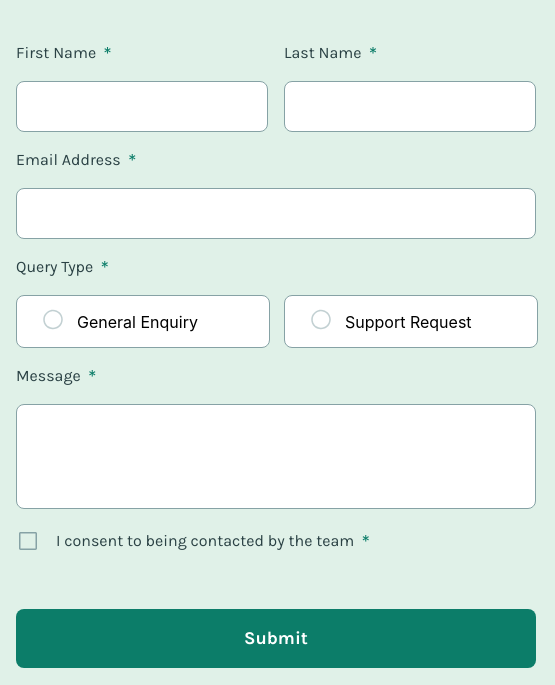
ContactUsComponent › shows error messages for invalid form submission
(page scrolled)
Step 1. Click the button "Submit" → (276, 638), box [16,609,536,668]
(page scrolled)
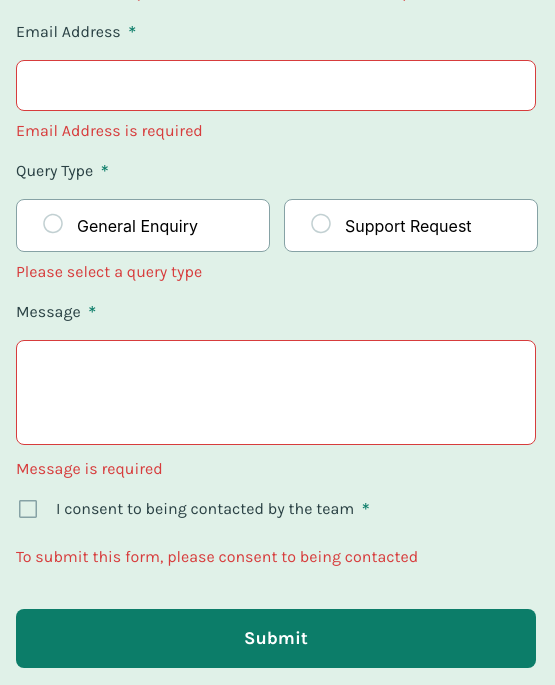
Now the text "Email Address is required" is shown, box [16,121,203,140]
Now the text "Please select a query type" is shown, box [16,262,202,281]
Now the text "Message is required" is shown, box [16,459,163,478]
